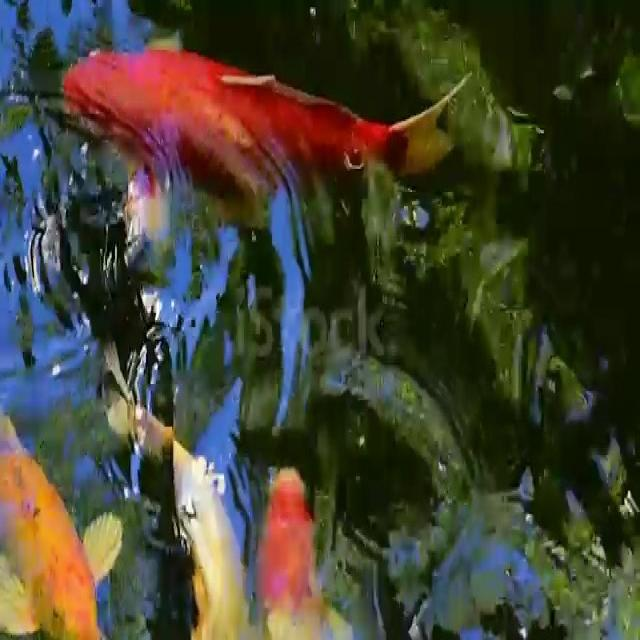fish: (62, 7, 478, 247), (118, 377, 254, 640), (0, 395, 123, 640), (253, 466, 331, 636)
